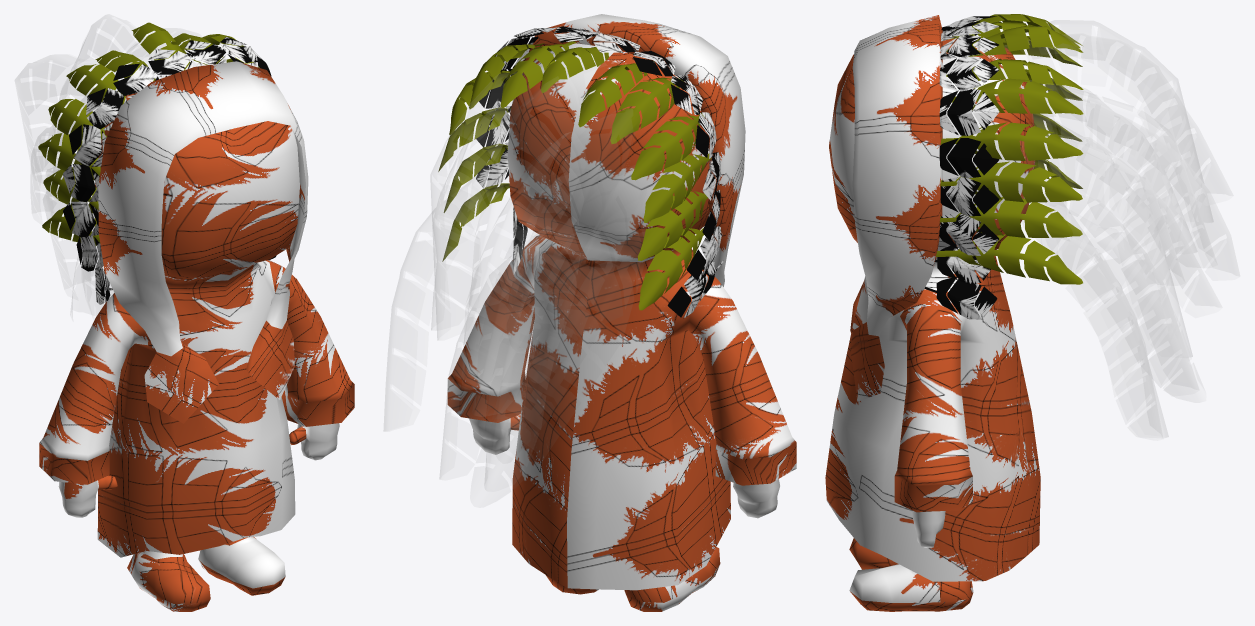
The model's file is protagonist_noRig.fbx.
3 views of the same model, side by side, from view 1: azimuth 30°, elevation 25°; view 2: azimuth 150°, elevation 25°; view 3: azimuth 270°, elevation 25° (orthographic). The views are drawn at different scales.
Visible parts, largest first — view 1: Cube_001; view 2: Cube_001; view 3: Cube_001.
Part boxes in pixels (bbox=[...]): Cube_001: bbox=[15, 14, 354, 611]; Cube_001: bbox=[384, 14, 796, 611]; Cube_001: bbox=[825, 14, 1239, 611].
Size of the model in its own units: 3.49 by 5.76 by 3.86.
